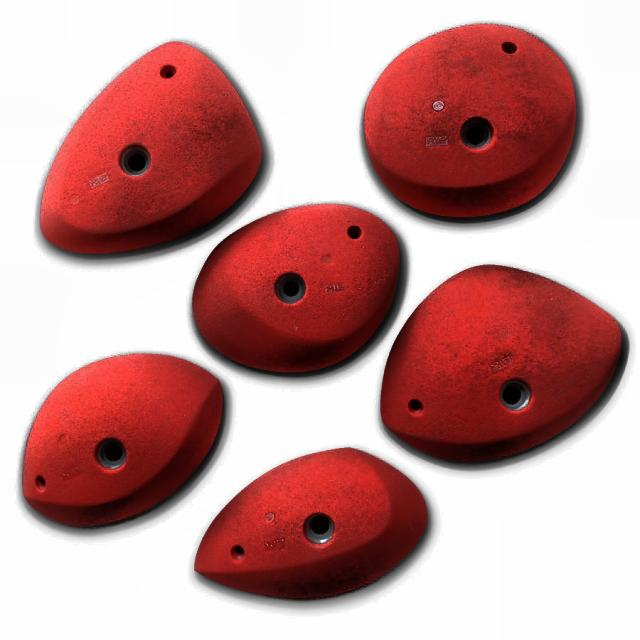Hold: (379, 258, 627, 464), (36, 37, 264, 256), (364, 23, 591, 217), (198, 445, 427, 606), (192, 205, 402, 377), (24, 355, 227, 531)
